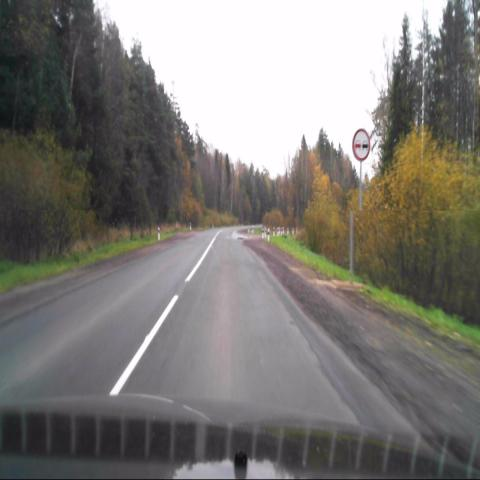3_20: (352, 128, 370, 162)
